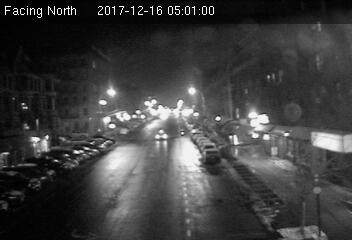car: (203, 149, 221, 164), (154, 129, 169, 140)
